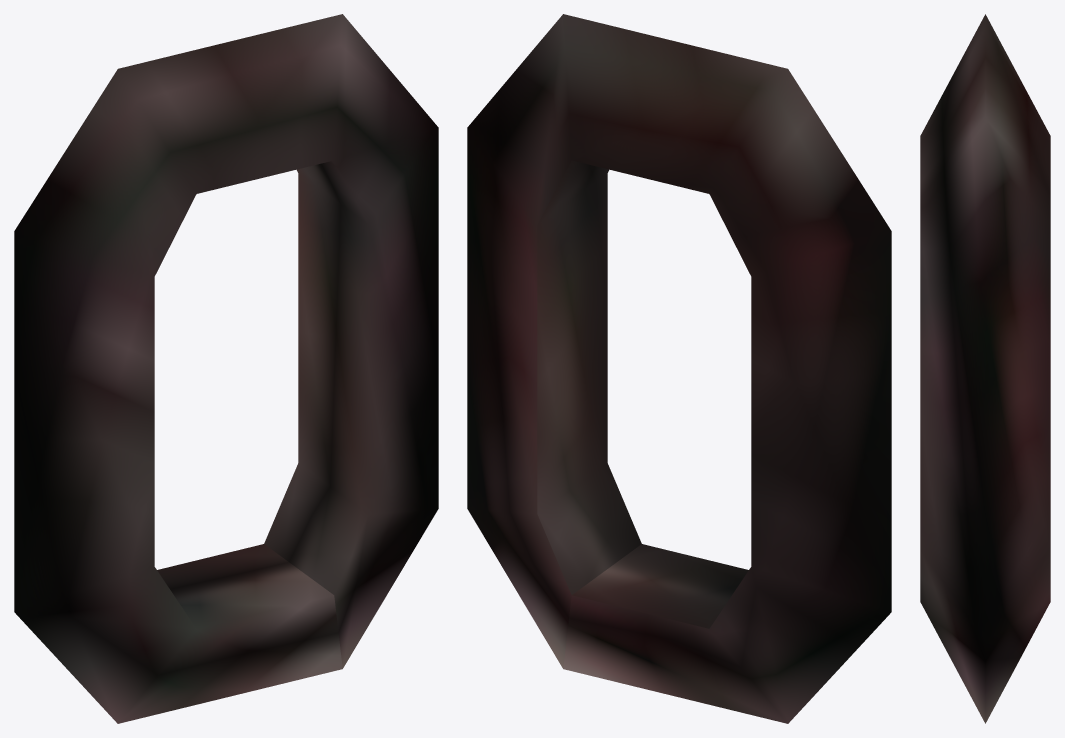
Rendered from Chain.FBX.
The picture shows the model from 3 angles, left to right: view 1: azimuth 30°, elevation 25°; view 2: azimuth 150°, elevation 25°; view 3: azimuth 270°, elevation 25°; orthographic projection. The views are drawn at different scales.
Parts seen in each view (by area): view 1: Chain; view 2: Chain; view 3: Chain.
Part boxes in pixels (left/top/right/bottom): Chain: left=14, top=14, right=438, bottom=723; Chain: left=467, top=14, right=891, bottom=723; Chain: left=920, top=14, right=1050, bottom=723.
Bounding box in the file's own units: 5.35 × 7.89 × 1.53.
